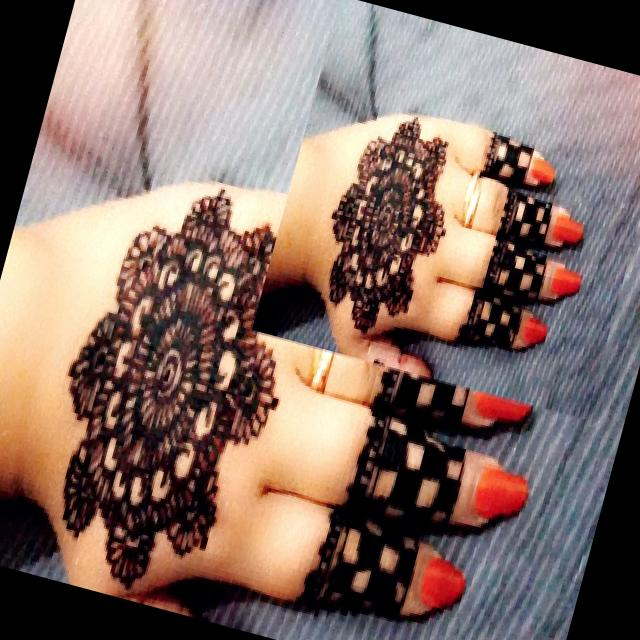Nail: (473, 465, 528, 518), (420, 556, 465, 607), (474, 389, 532, 421), (550, 266, 582, 295), (551, 215, 583, 243), (521, 315, 547, 345), (529, 156, 555, 184)
